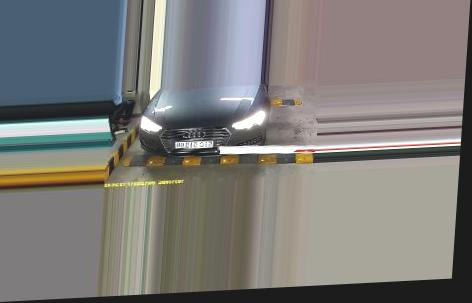License_Plate: (173, 135, 216, 151)
